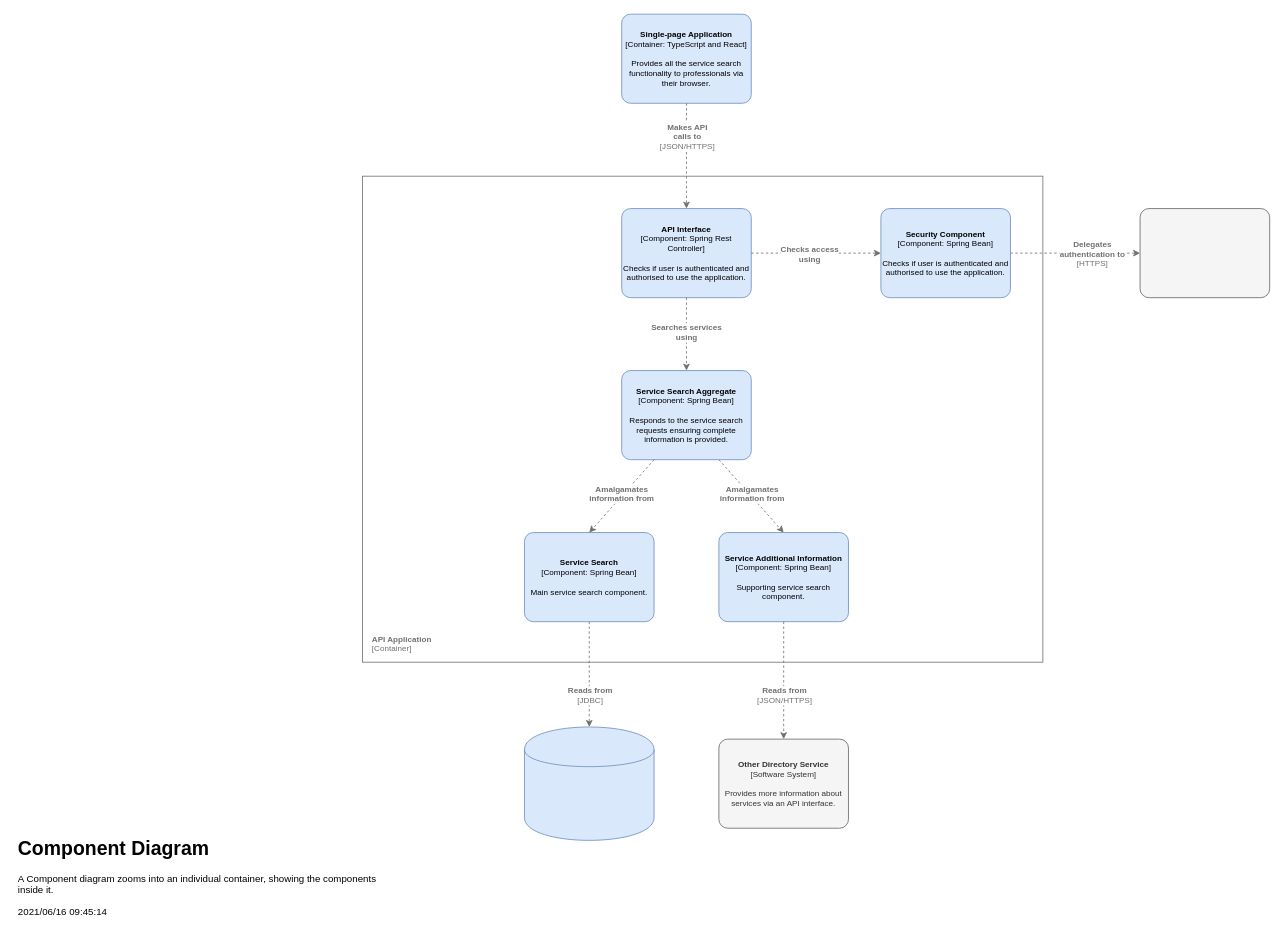
This 1284x936 diagram has some shape labels left out. Here are the shapes that lost their labels. From the top down, the centre of each, then its label:
At point (1204, 253): "Authentication Service [Software System] Provides identity information.".
At point (589, 783): "Database [Container: PostgreSQL] Stores service demographics information.".
